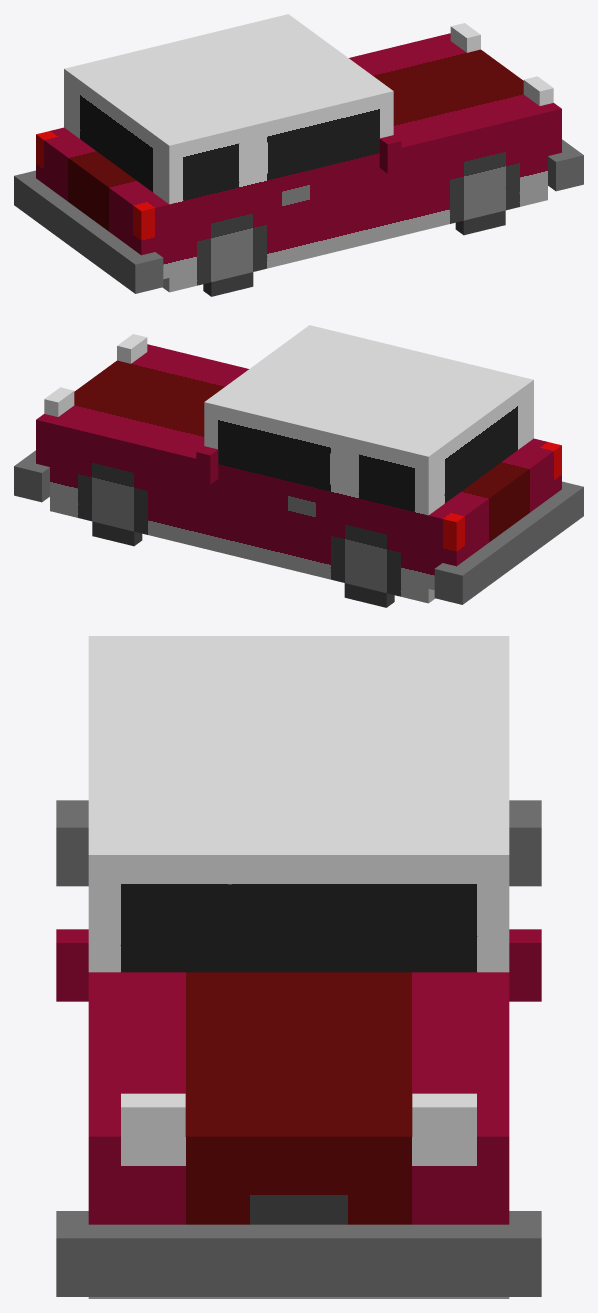
The model's file is veh_wagon4.fbx.
3 views of the same model, one above another, from view 1: azimuth 30°, elevation 25°; view 2: azimuth 150°, elevation 25°; view 3: azimuth 270°, elevation 25° (orthographic). The views are drawn at different scales.
Parts seen in each view (by area): view 1: veh_wagon4; view 2: veh_wagon4; view 3: veh_wagon4.
Boxes of the visible parts, x1,y1,x2,y2 form: veh_wagon4: (14, 14, 583, 296); veh_wagon4: (14, 325, 583, 607); veh_wagon4: (56, 636, 541, 1298).
Size of the model in its own units: 3.2 by 1.5 by 1.1.
Materials: 1 (1 with a texture image).
